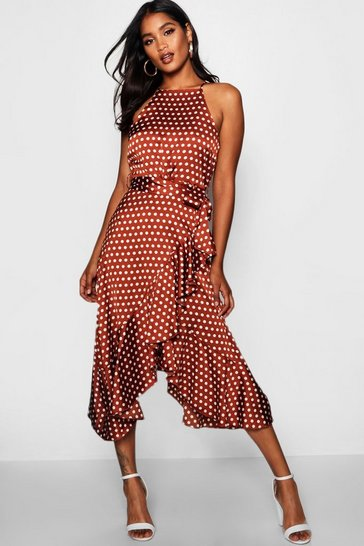C_dress: (84, 83, 271, 436)
